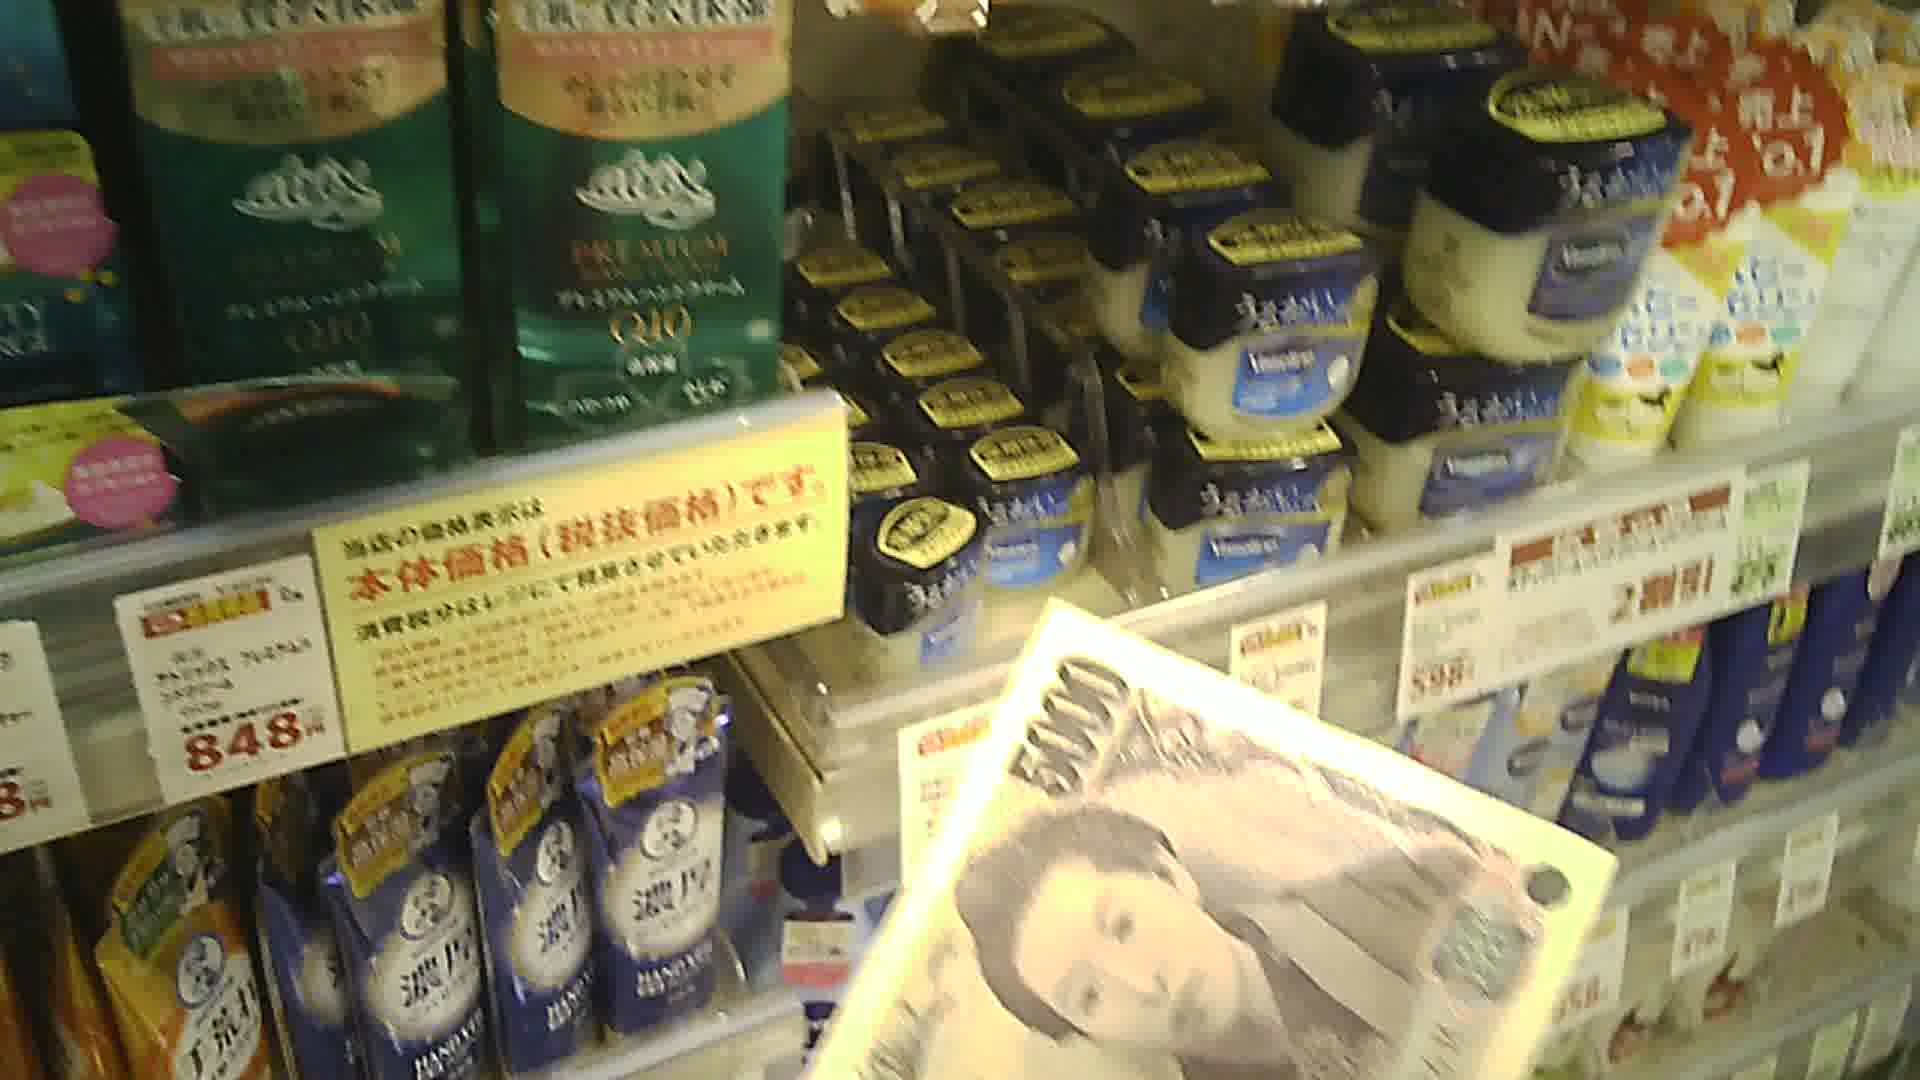5,000 Yen: (865, 601, 1600, 1079)
